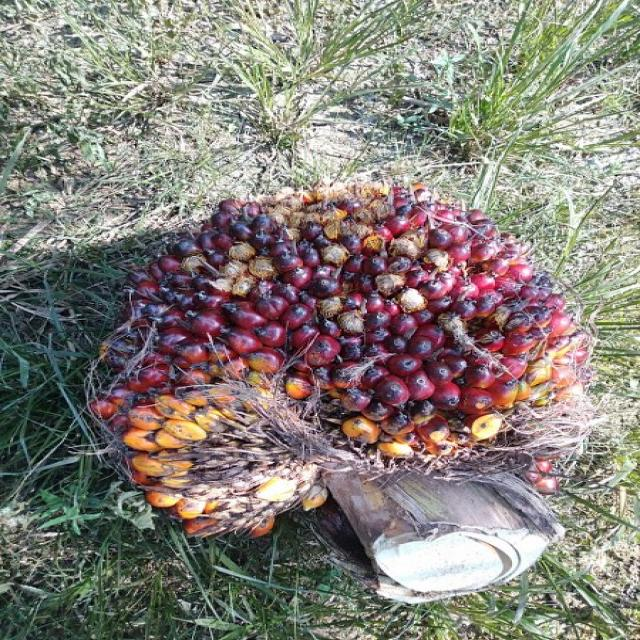fraksi 1: (87, 182, 581, 528)
